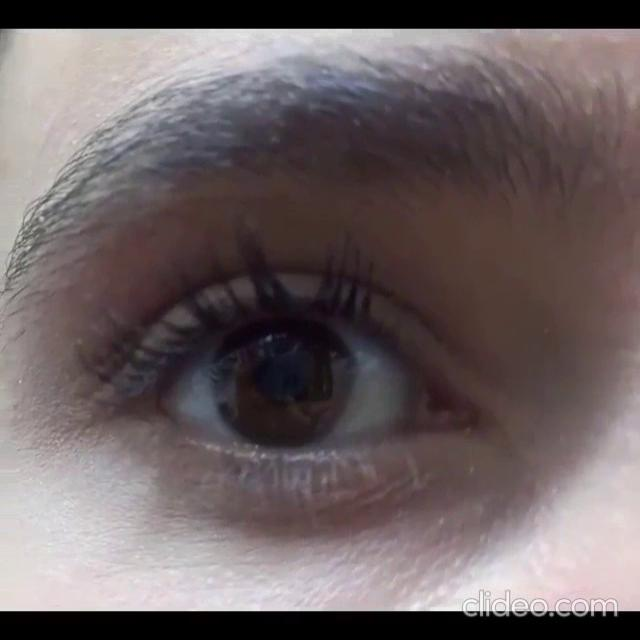iris: (211, 320, 353, 447)
pupille: (257, 347, 314, 405)
